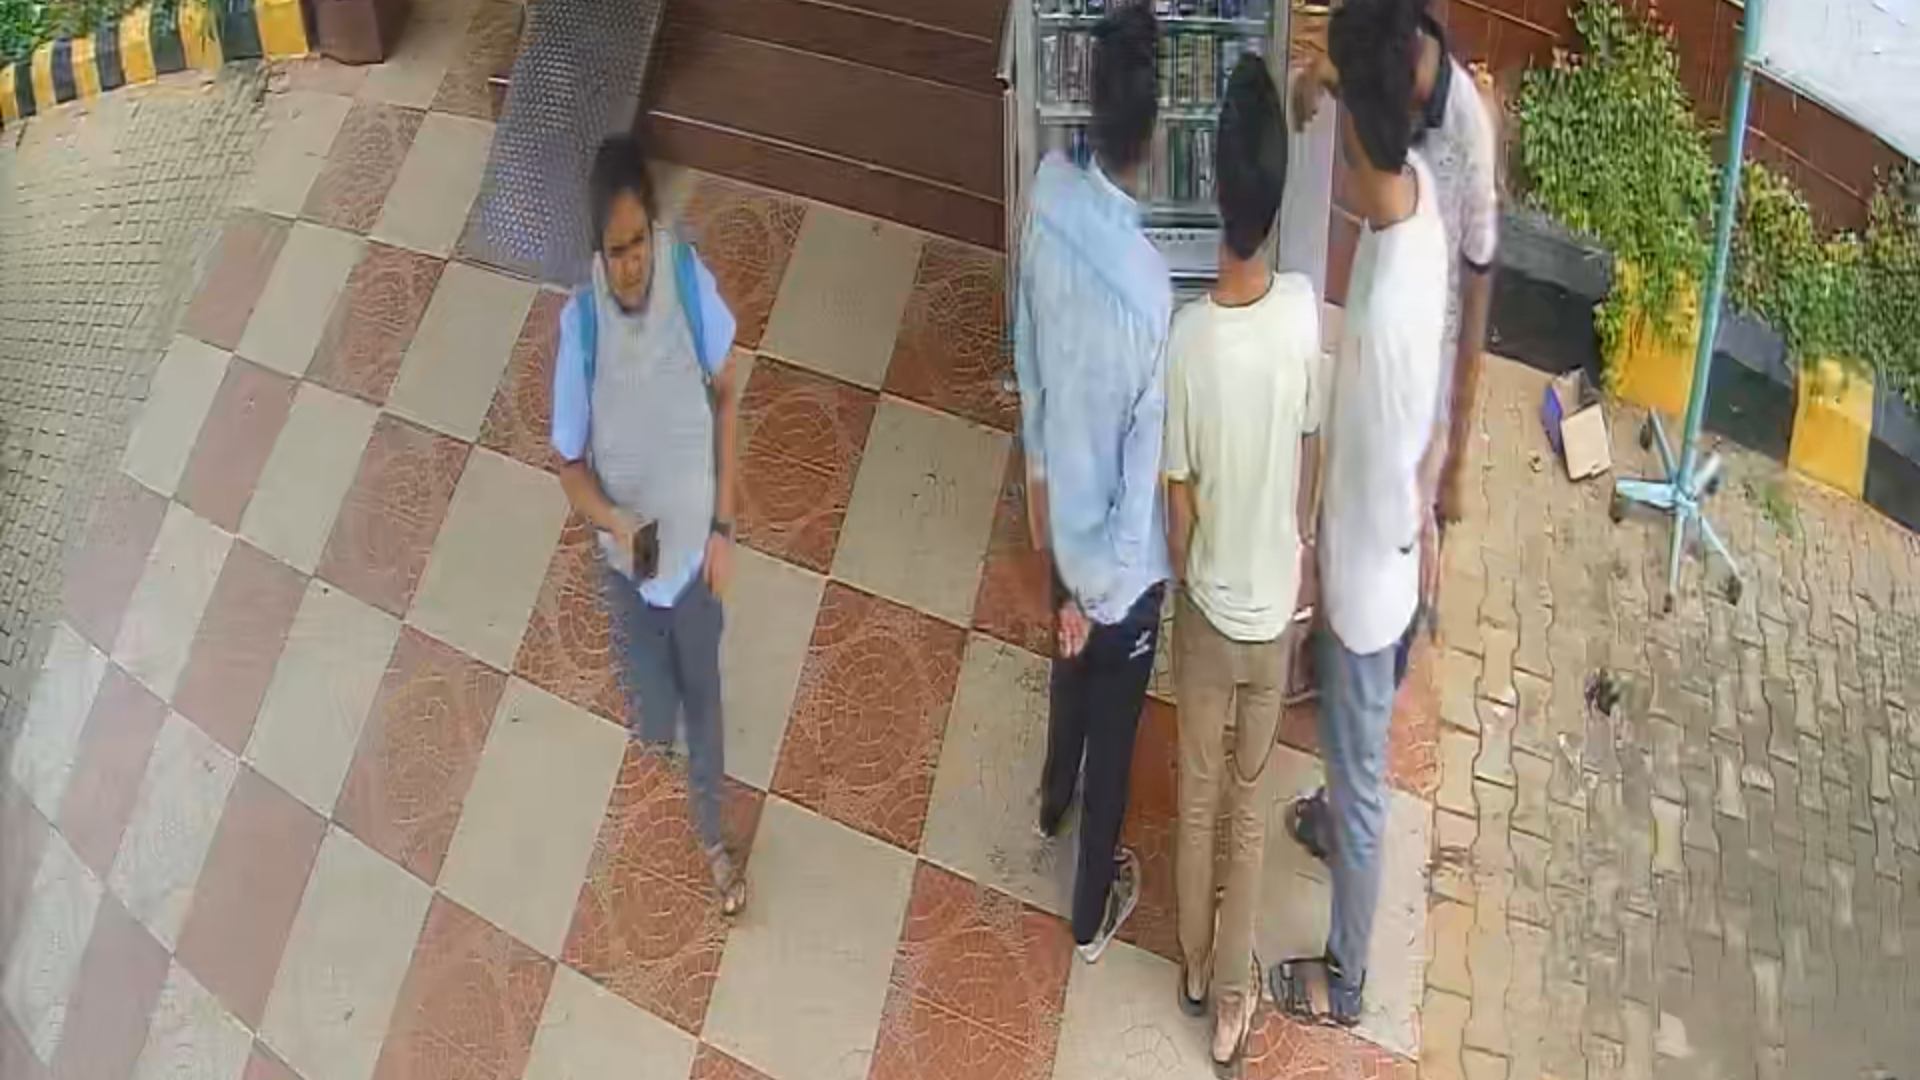intruder: (547, 142, 798, 916)
